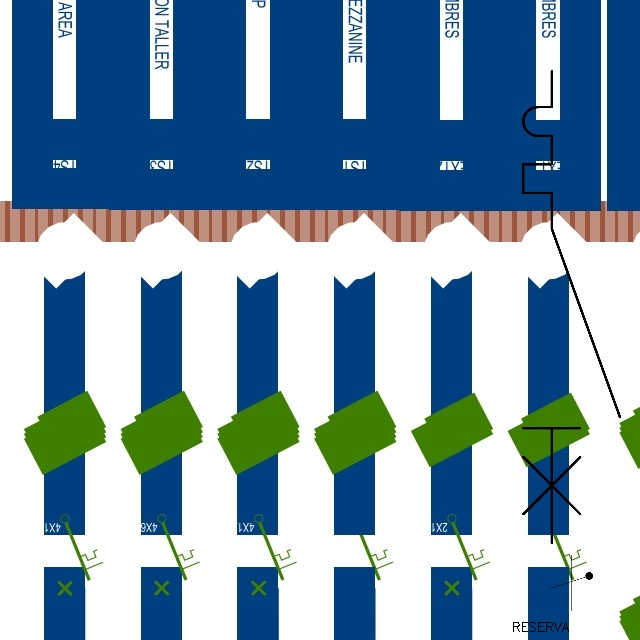interruptor_termomagnetico: (511, 59, 632, 554)
